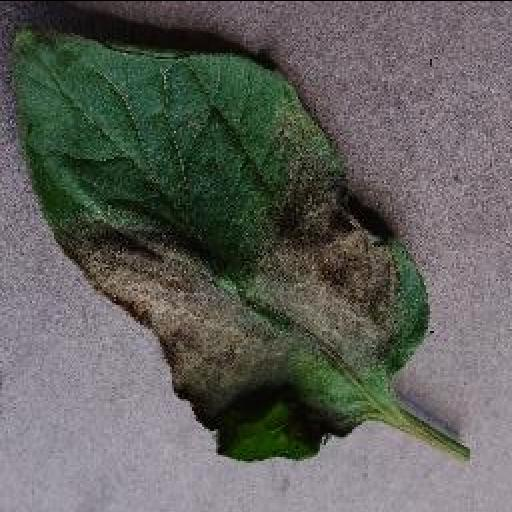disease_tomato: (0, 24, 432, 462)
